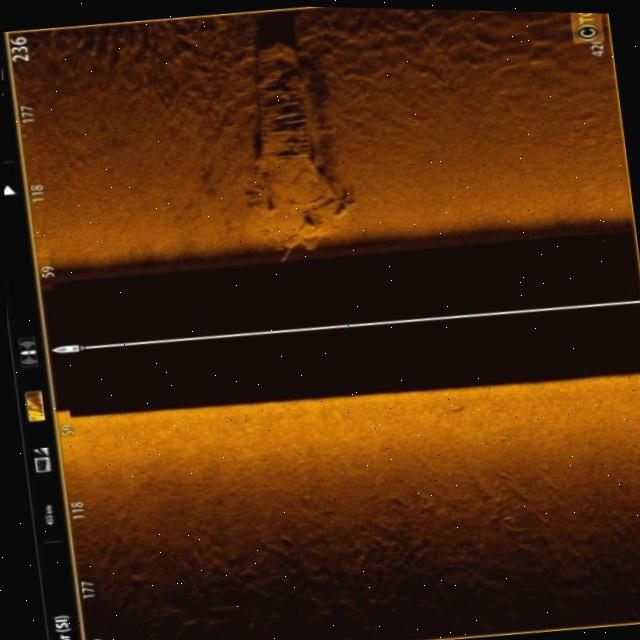shipwreck: (228, 30, 351, 268)
